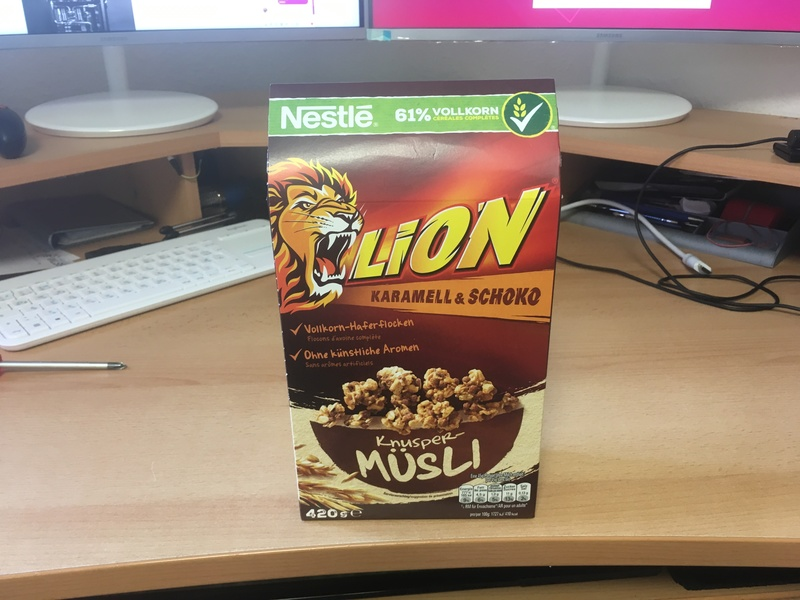cereals: (268, 81, 562, 521)
